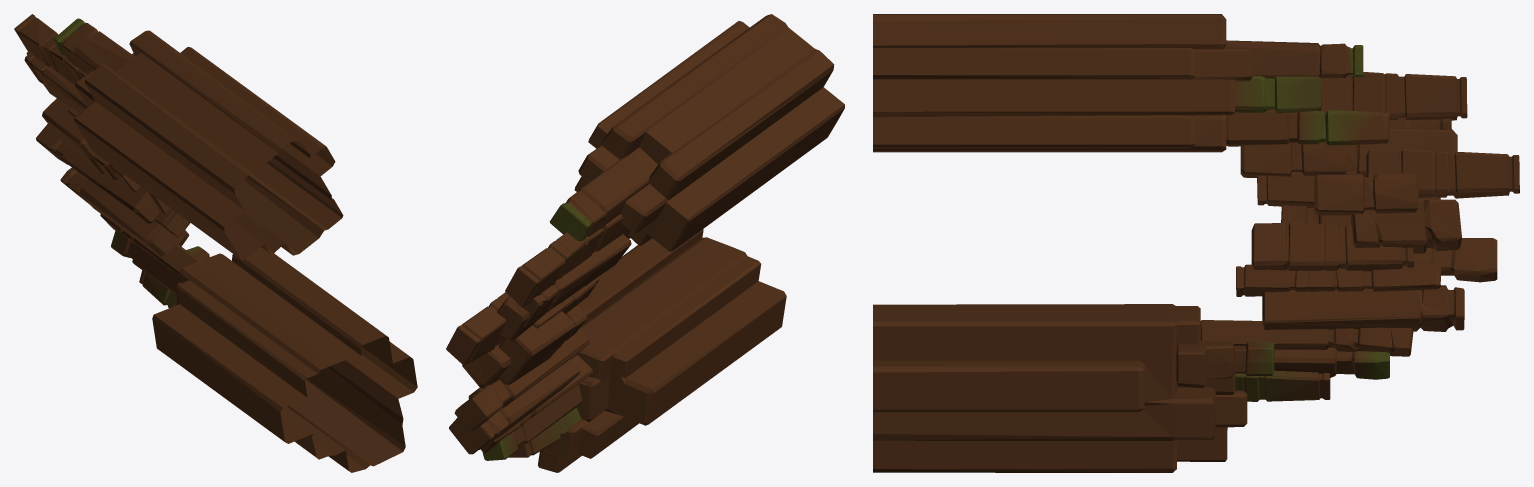
File: breakarchA.fbx
3 renders of one model, left to right at view 1: azimuth 30°, elevation 25°; view 2: azimuth 150°, elevation 25°; view 3: azimuth 270°, elevation 25°, orthographic. The views are drawn at different scales.
Visible parts, largest first — view 1: w5_obj_breakarchA; view 2: w5_obj_breakarchA; view 3: w5_obj_breakarchA.
Boxes of the visible parts, left/top/right/bottom form: w5_obj_breakarchA: left=14, top=14, right=417, bottom=472; w5_obj_breakarchA: left=446, top=14, right=844, bottom=472; w5_obj_breakarchA: left=873, top=14, right=1519, bottom=472.
Bounding box in the file's own units: 44.52 × 110 × 76.06.
